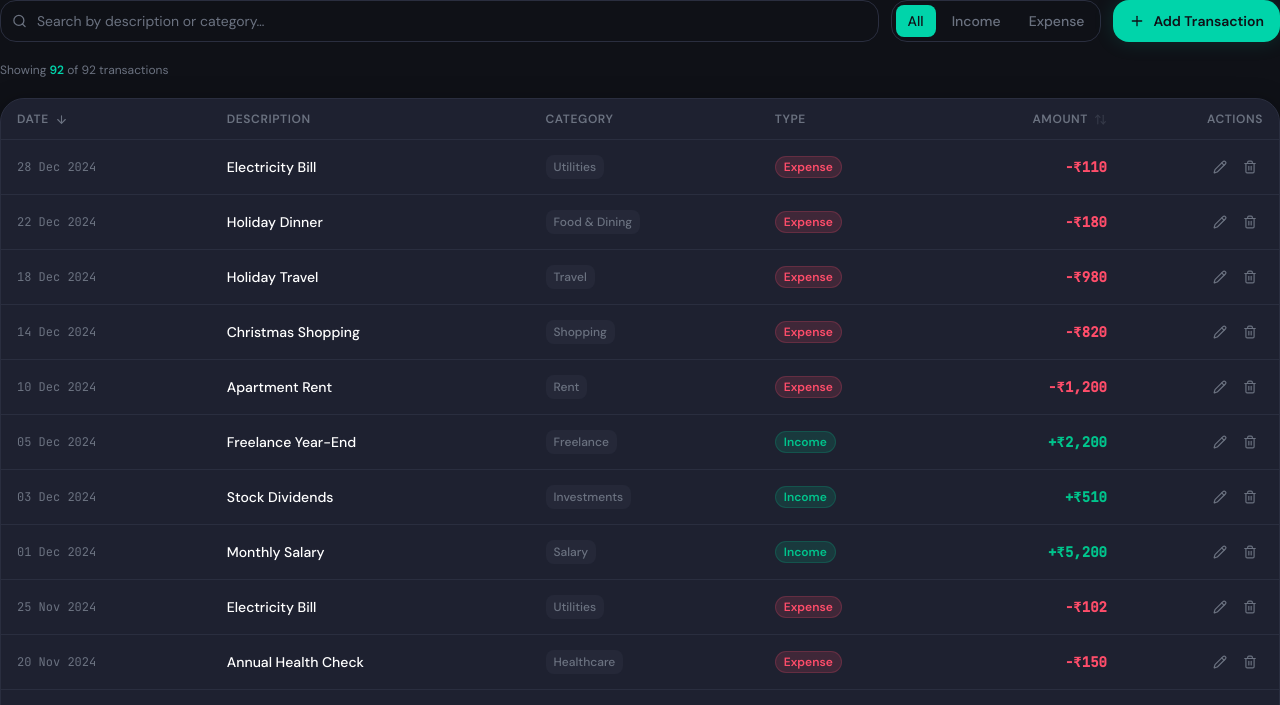
Test: Transaction flow: add → verify → delete → verify gone › adds a new transaction, shows it in the table, then deletes it
Note: ── 1. Open the Add Transaction modal ────────────────────────────────────
Click the button "Add Transaction" at (1197, 21), box [1113,0,1279,42]
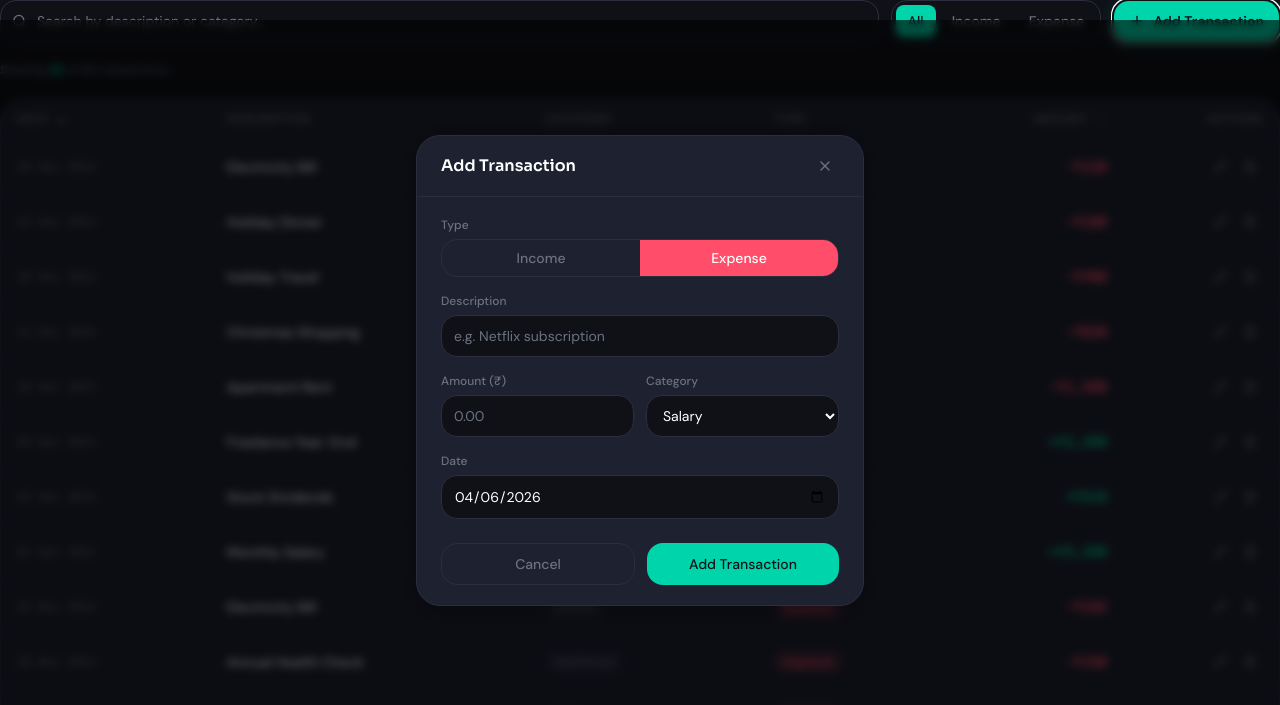
Check: the heading "Add Transaction" is shown, box [441,154,576,178]
Type "Integration Test Payment" into the field labelled "Description" at (640, 336), box [441,314,839,356]
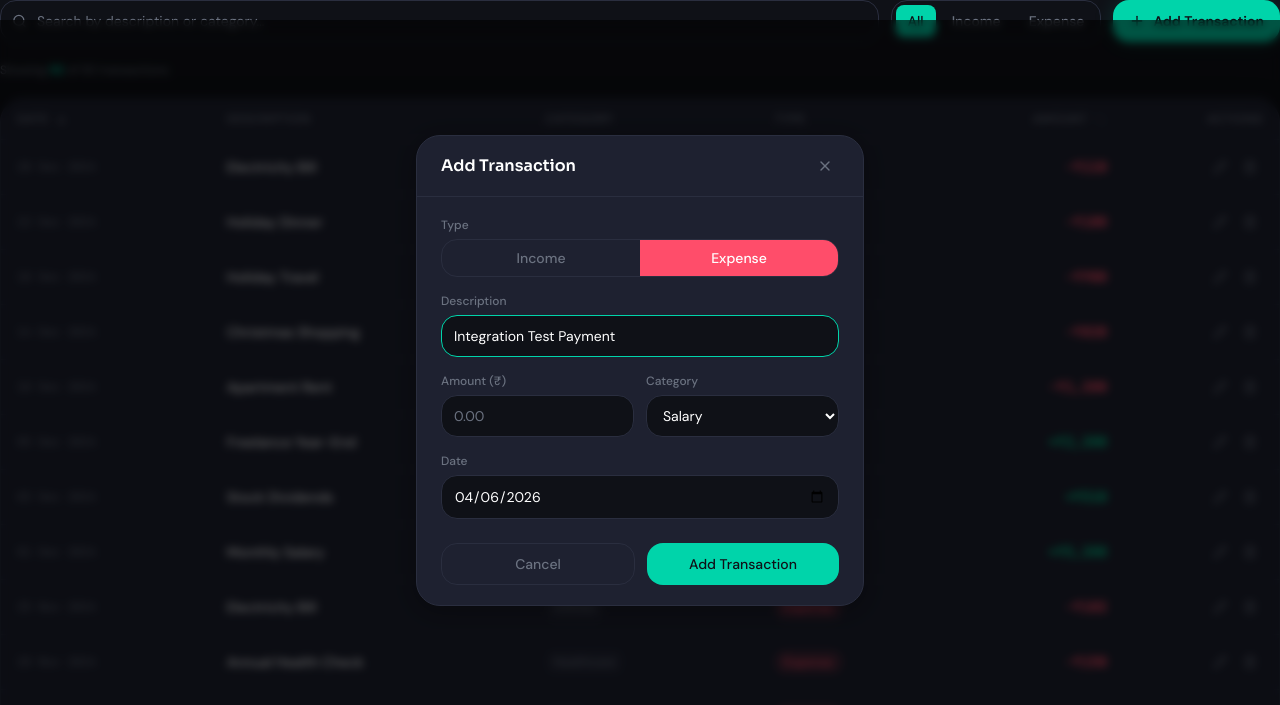
Type "250" into the number field labelled "Amount (₹)" at (538, 416), box [441,394,634,436]
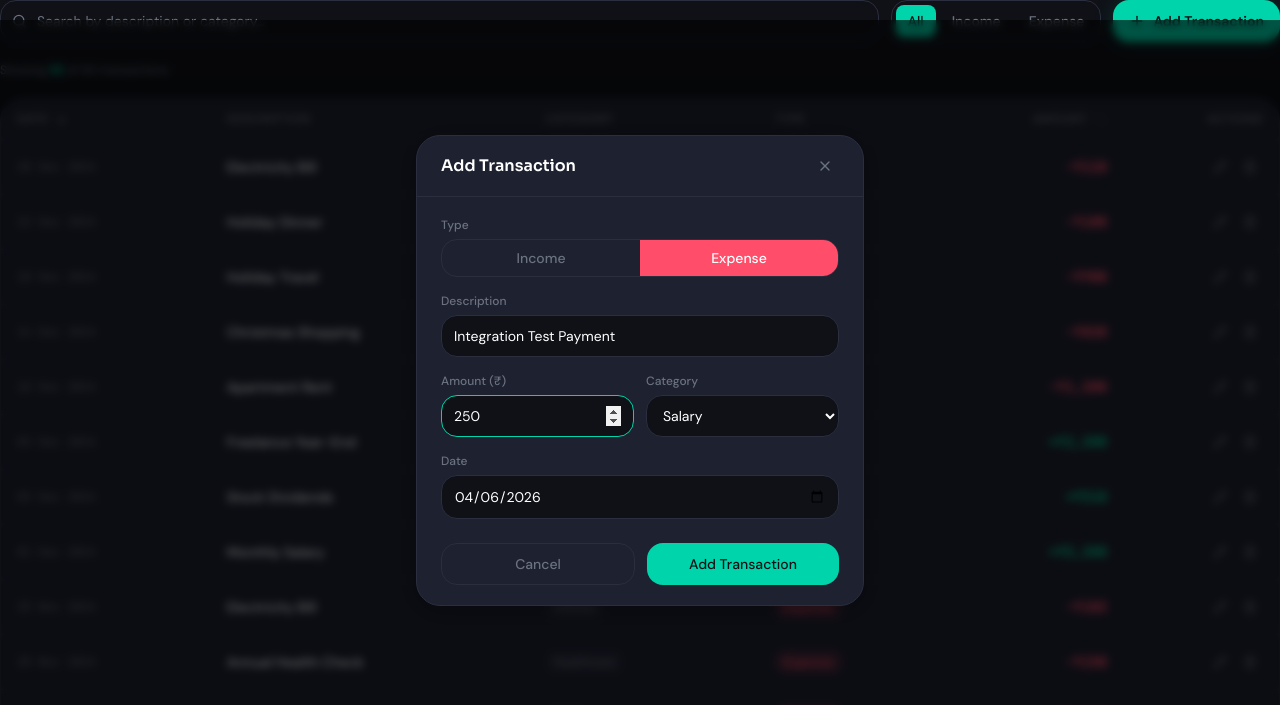
Click the button "Add Transaction" at (743, 564), box [647,542,839,584]
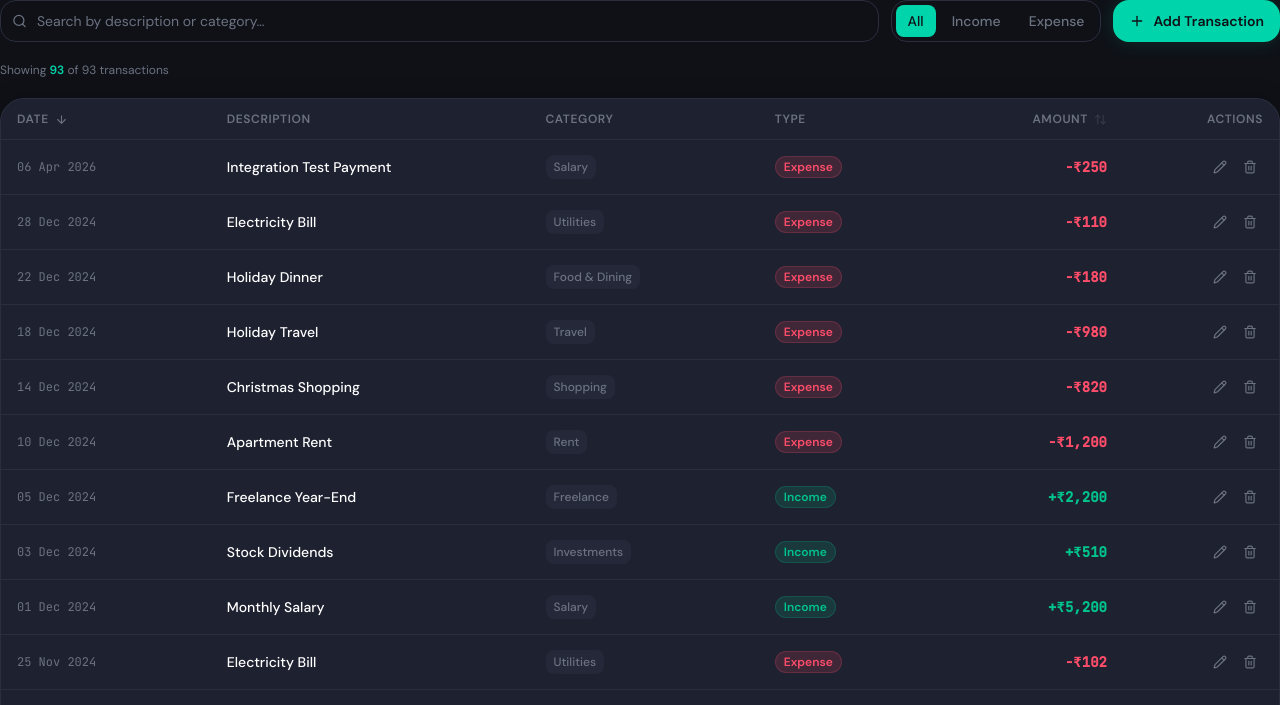
Check: the text "Integration Test Payment" is shown, box [211,140,530,194]
Click the button named "delete integration test payment" at (1250, 167), box [1237,154,1263,180]
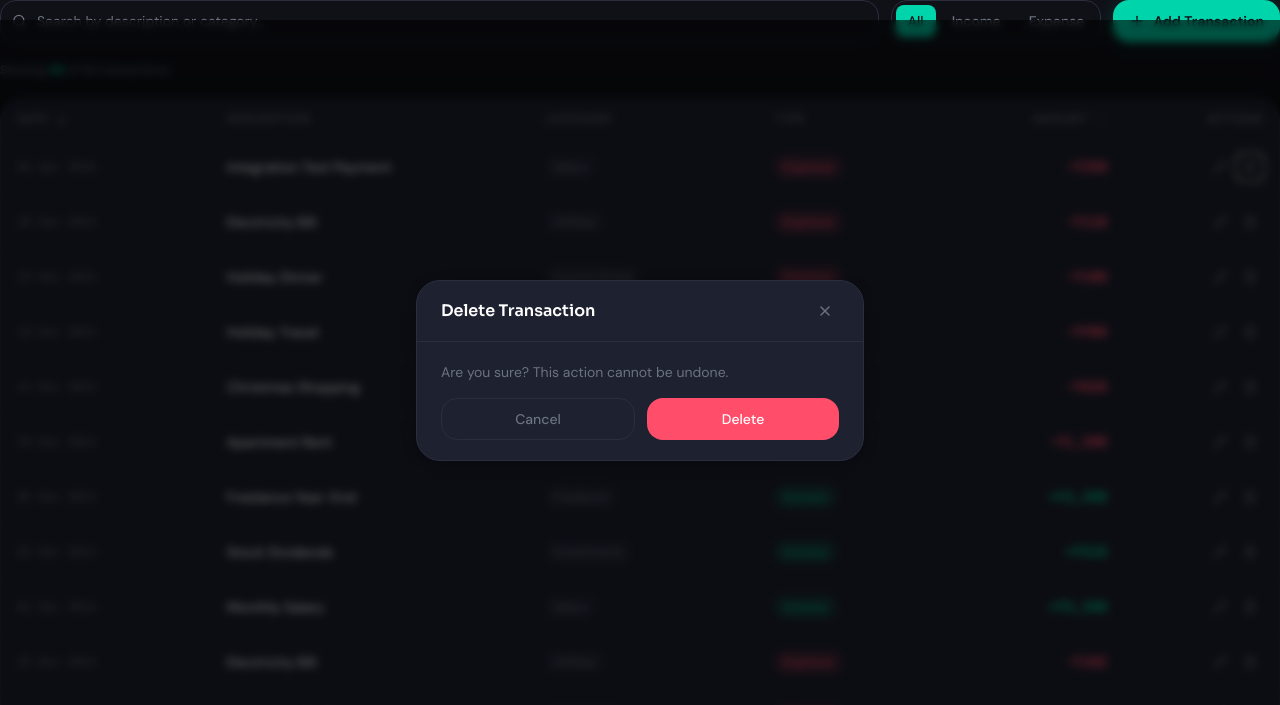
Click the button "Delete" at (743, 418), box [647,398,839,440]
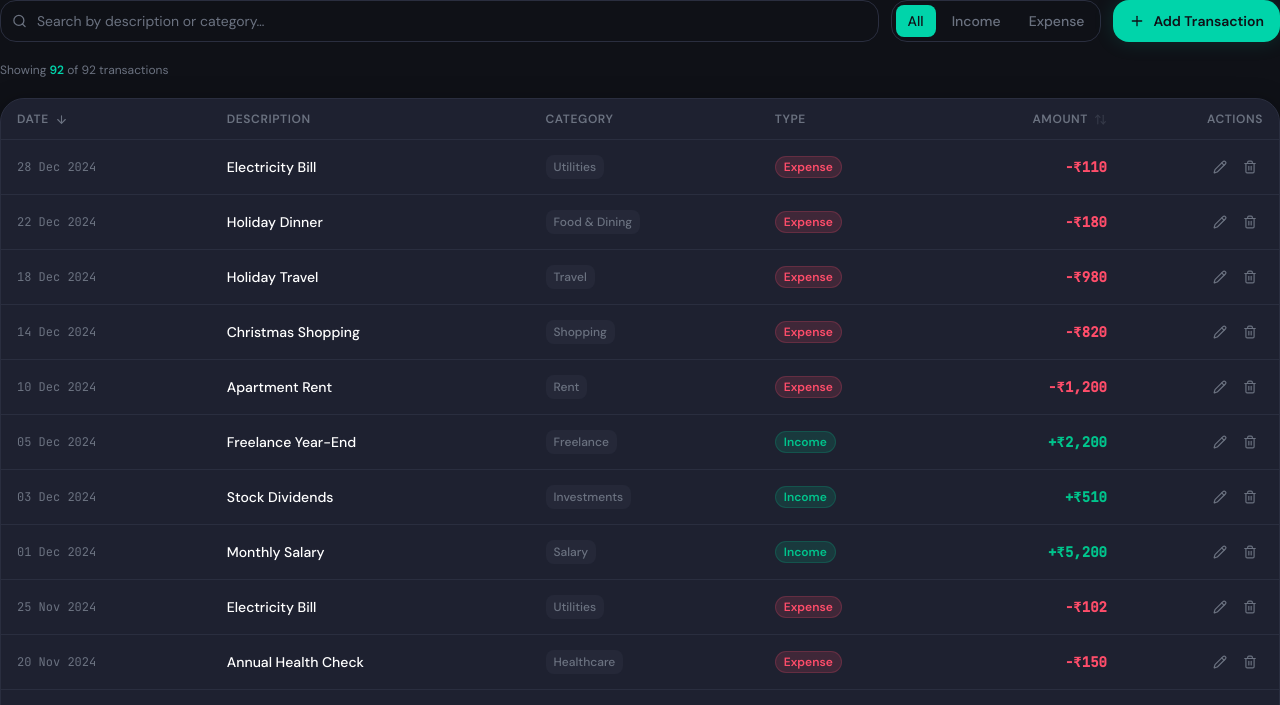
Check: the text "Integration Test Payment" is gone
